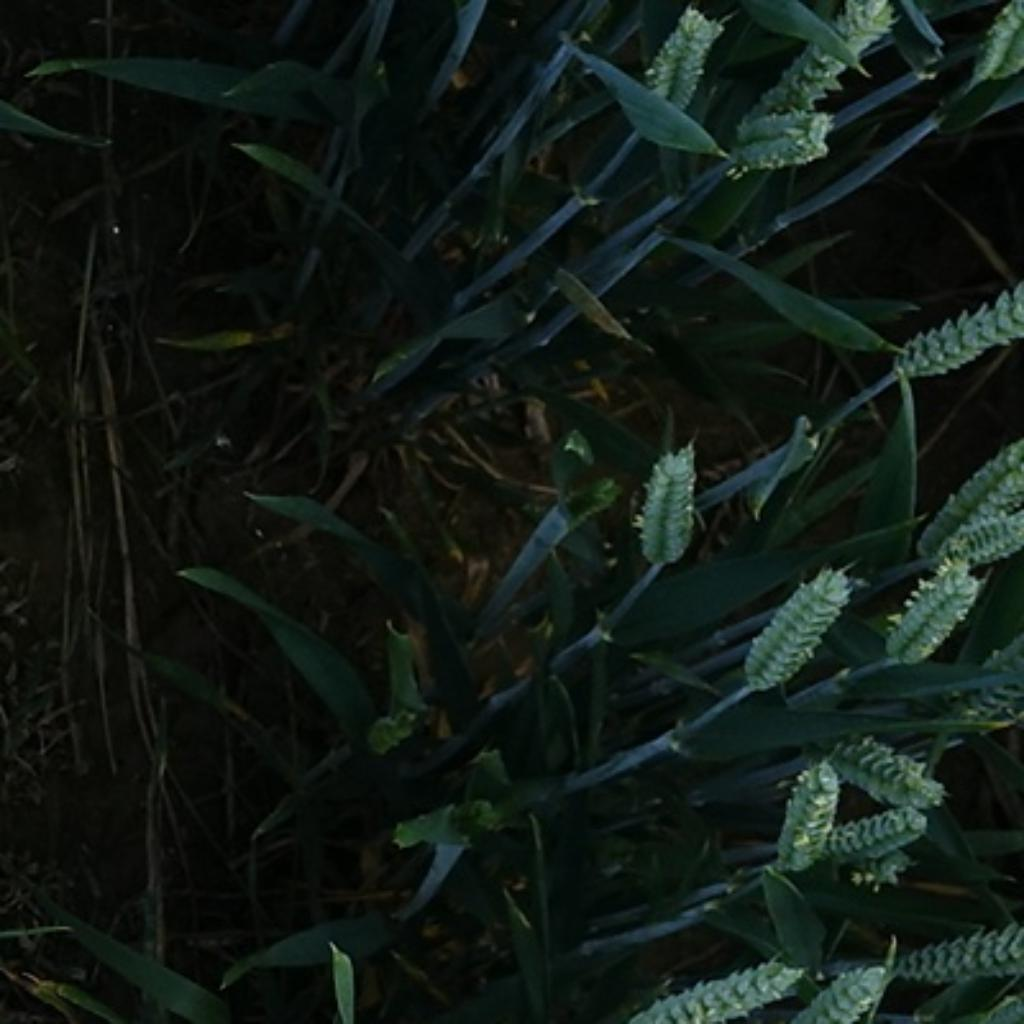0-0: (727, 547, 860, 696), (746, 1, 898, 120), (888, 271, 1024, 386), (618, 949, 798, 1024), (928, 430, 1024, 558), (819, 721, 947, 811), (875, 560, 977, 668), (778, 798, 929, 870), (768, 744, 849, 875), (637, 2, 731, 112), (879, 922, 1024, 989), (638, 446, 715, 572), (943, 630, 1024, 735), (716, 112, 845, 176), (770, 965, 885, 1024), (965, 2, 1024, 97), (948, 508, 1024, 572), (550, 471, 622, 532)
